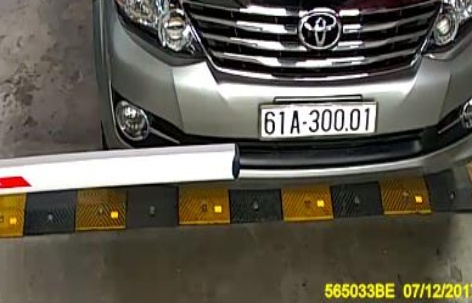plate: (254, 97, 385, 139)
